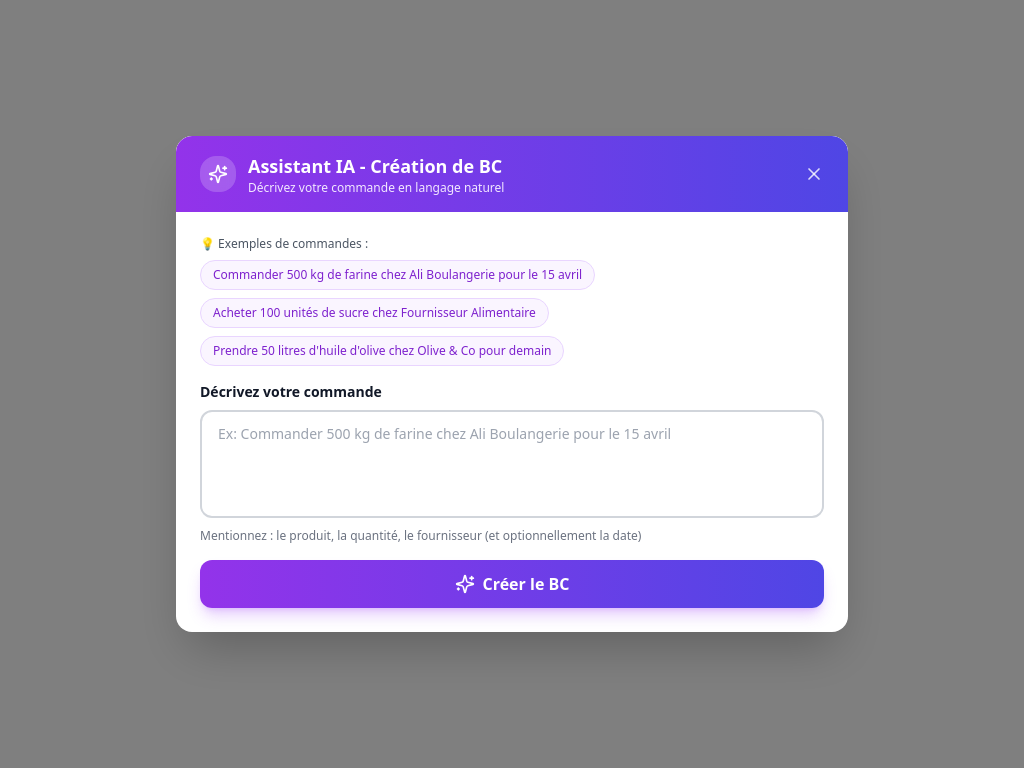
Scenario: AiPOGeneratorModal › should display loading state during generation
Replace the text in the text box with placeholder "Commander 500 kg de farine" with "Test" at [512, 464], box [200,410,824,518]
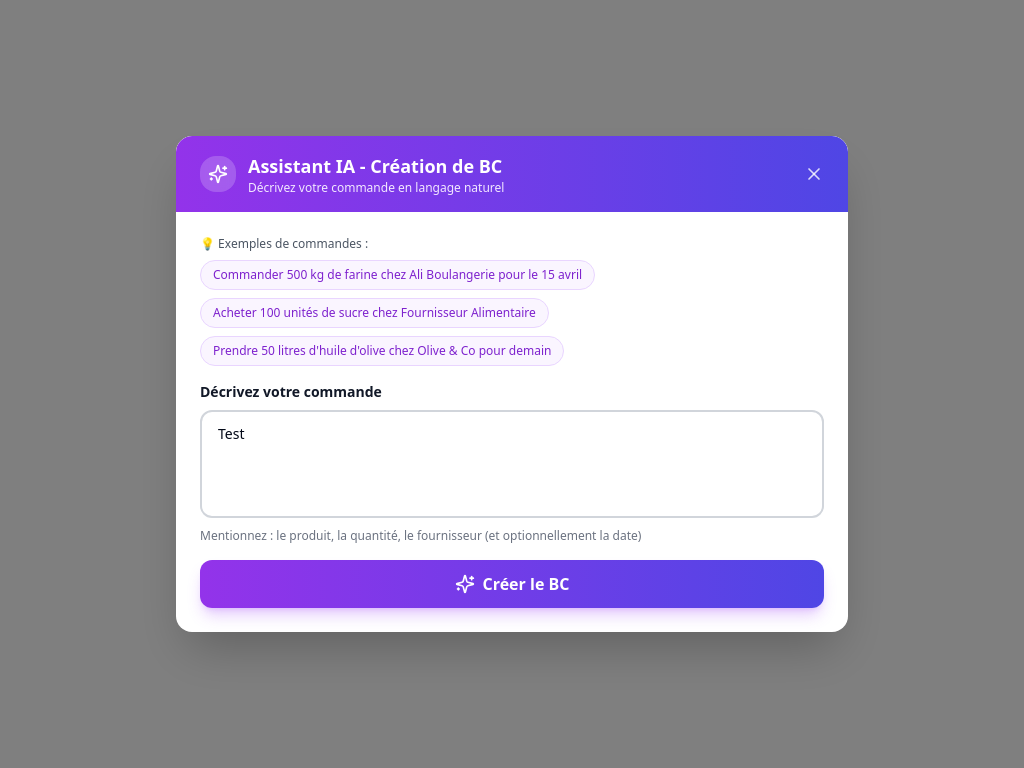
Click the button "Créer le BC" at [512, 584], box [200,560,824,608]
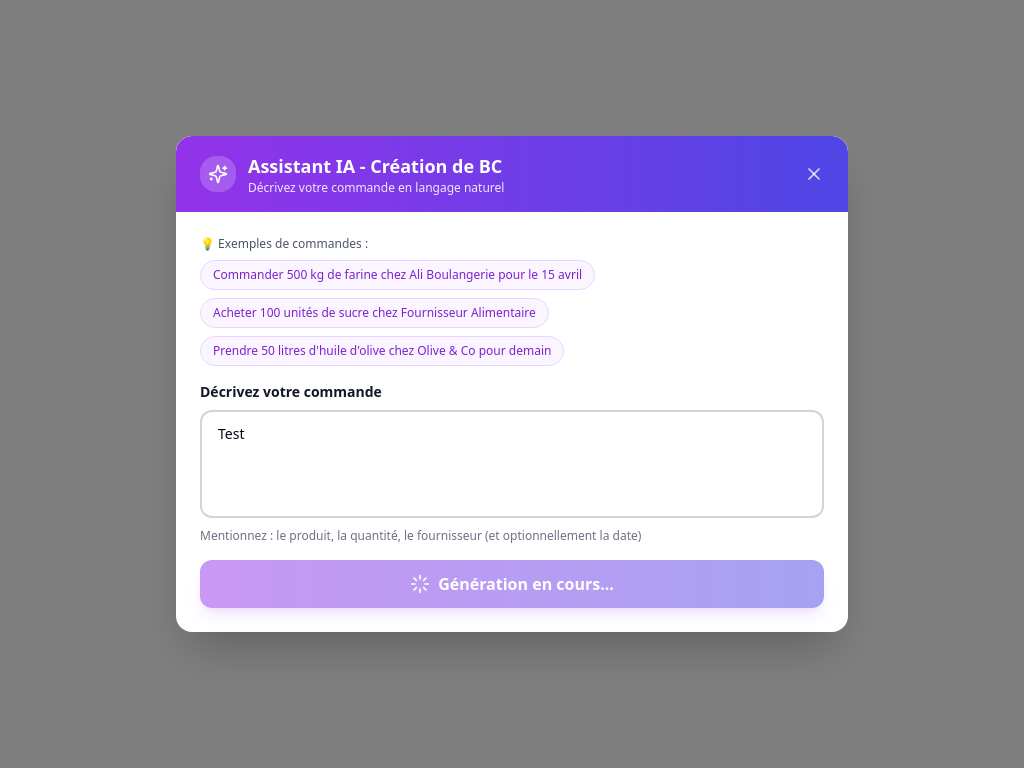
Expected: the text "Génération en cours..." is shown, [438,572,614,596]
